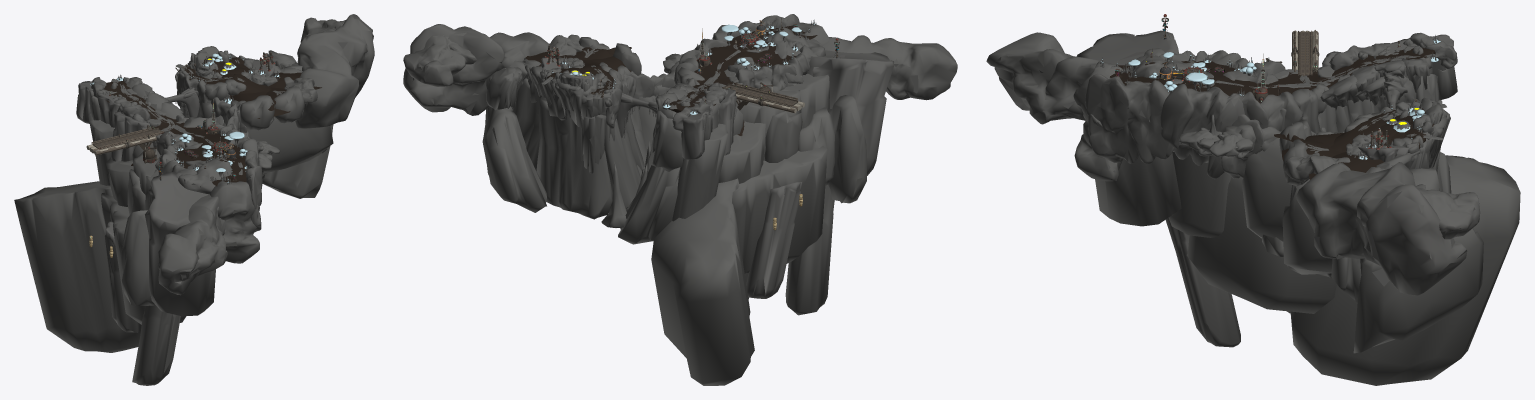
The picture shows the model from 3 angles, left to right: view 1: azimuth 30°, elevation 25°; view 2: azimuth 150°, elevation 25°; view 3: azimuth 270°, elevation 25°; orthographic projection. The views are drawn at different scales.
Visible parts, largest first — view 1: chunk_q11_low; view 2: chunk_q11_low; view 3: chunk_q11_low.
Boxes of the visible parts, box(x1,y1,x2,y2) form: chunk_q11_low: box(14, 14, 374, 385); chunk_q11_low: box(403, 14, 957, 385); chunk_q11_low: box(986, 14, 1520, 385).
Size of the model in its own units: 45.26 by 32.69 by 43.03.
Materials: 10 (9 with a texture image).
